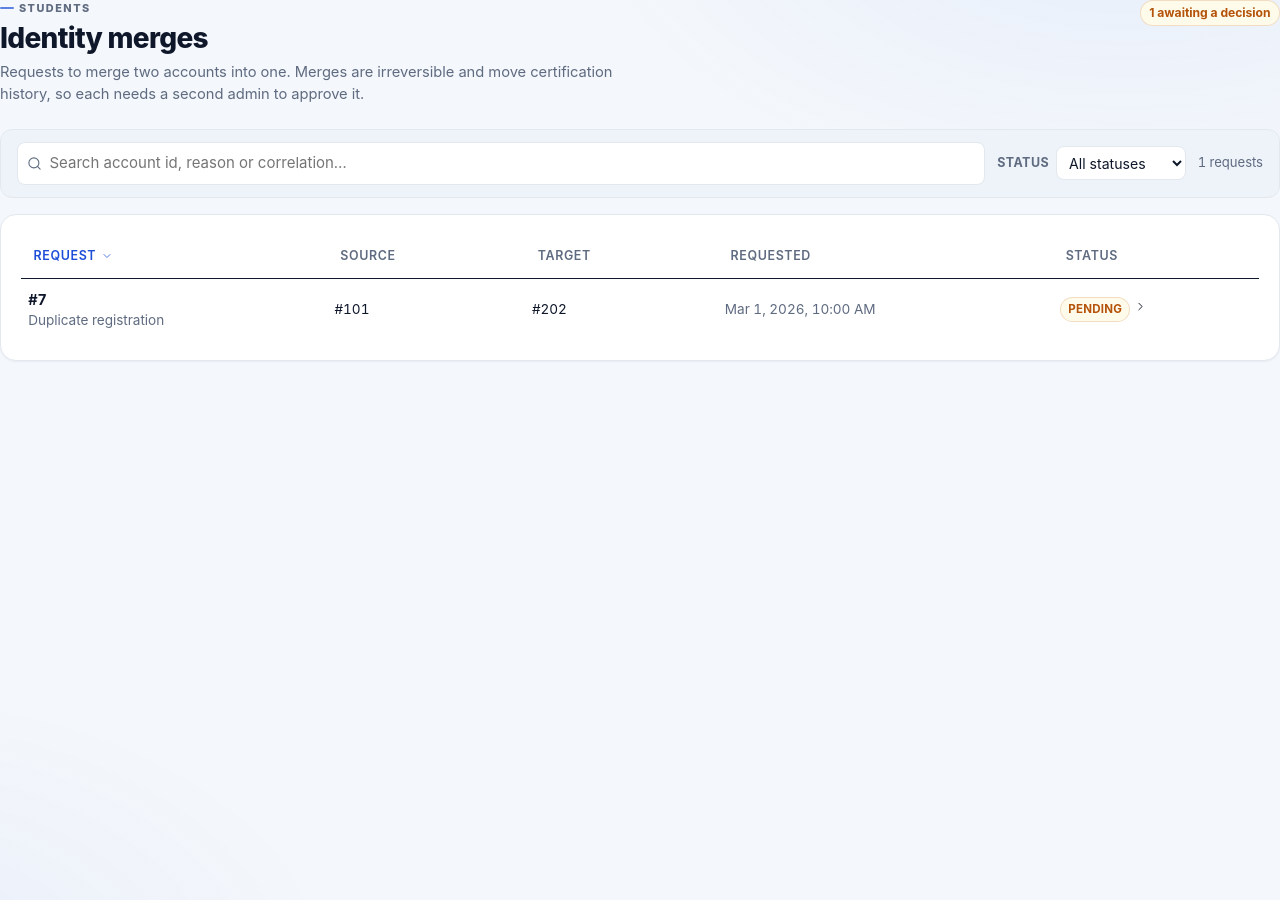
it: Identity merges (approval workflow) › shows what each account holds before a decision is made
The image size is (1280, 900).
Click the button that starts with "Duplicate registration": (96, 320) [21,279,1259,340]
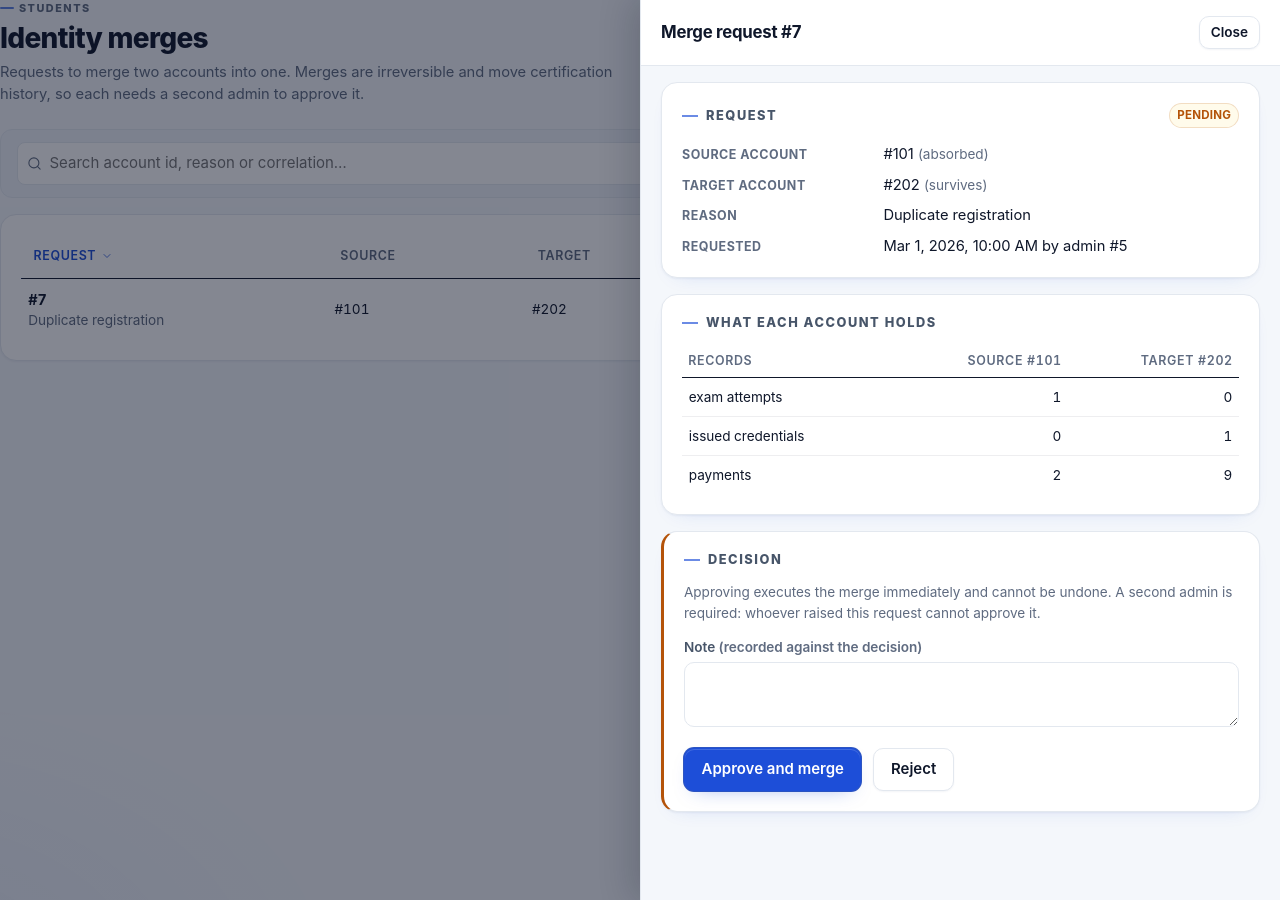
Now the text "payments" is shown, box [682,456,893,494]
Now the text "9" is shown, box [1068,456,1239,494]
Now the text "issued credentials" is shown, box [682,416,893,456]
